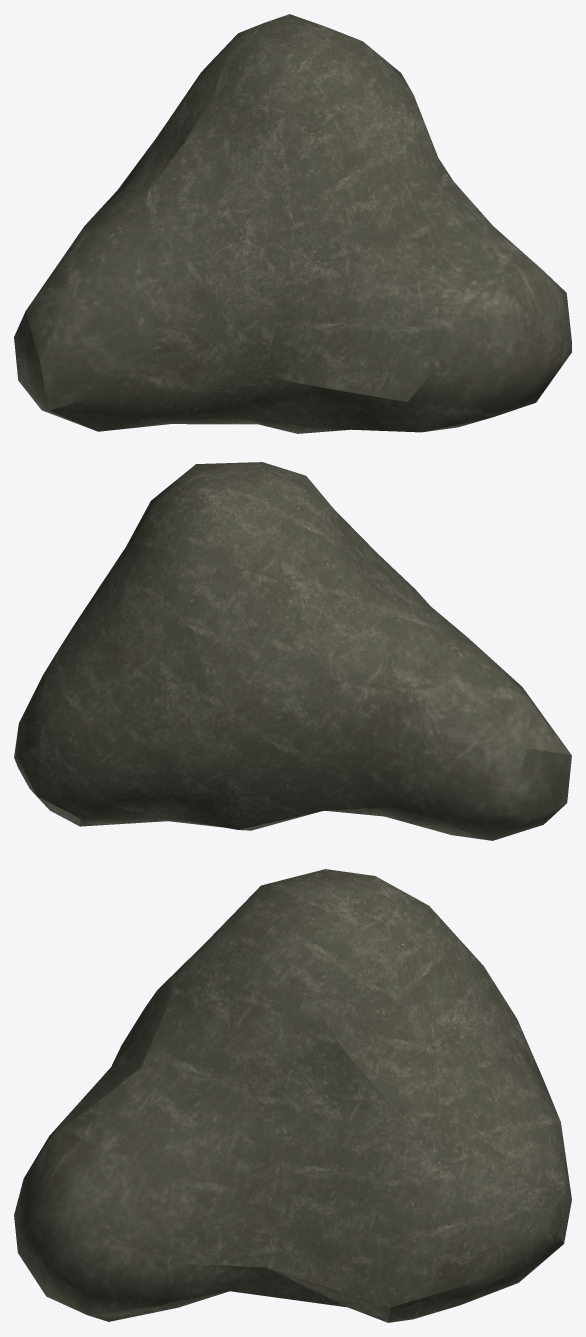
Rendered from StoneStandard_1.fbx.
3 renders of one model, top to bottom at view 1: azimuth 30°, elevation 25°; view 2: azimuth 150°, elevation 25°; view 3: azimuth 270°, elevation 25°, orthographic. The views are drawn at different scales.
Parts seen in each view (by area): view 1: RockStandard_1; view 2: RockStandard_1; view 3: RockStandard_1.
Part boxes in pixels (box(x1,y1,x2,y2)): RockStandard_1: box(14, 14, 571, 433); RockStandard_1: box(14, 462, 571, 840); RockStandard_1: box(14, 869, 571, 1322).
Bounding box in the file's own units: 126 × 85.88 × 115.
Materials: 1 (1 with a texture image).
